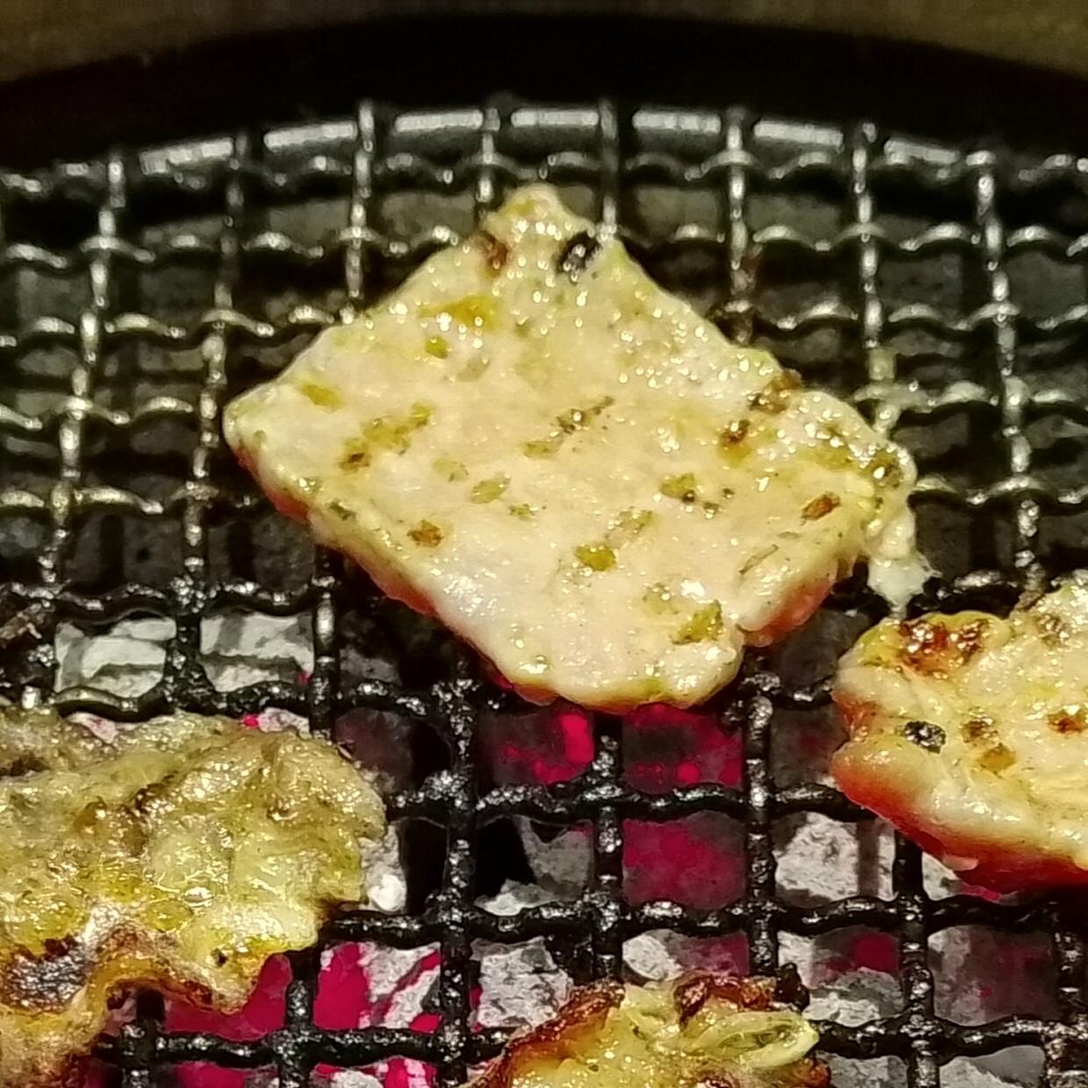Overcooked: (0, 705, 390, 1087), (462, 977, 834, 1087)
Well-Cooked: (221, 186, 920, 716), (827, 571, 1087, 908)
